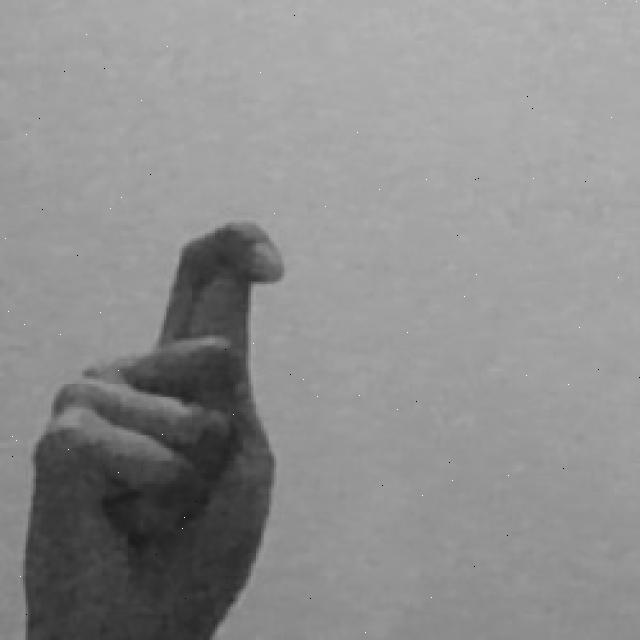T: (18, 207, 293, 634)
